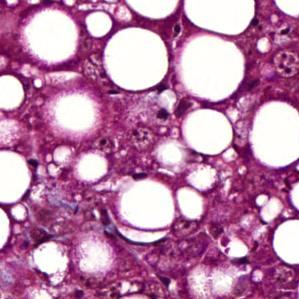steatosis: (105, 28, 171, 96), (119, 182, 178, 232), (181, 110, 235, 153)
